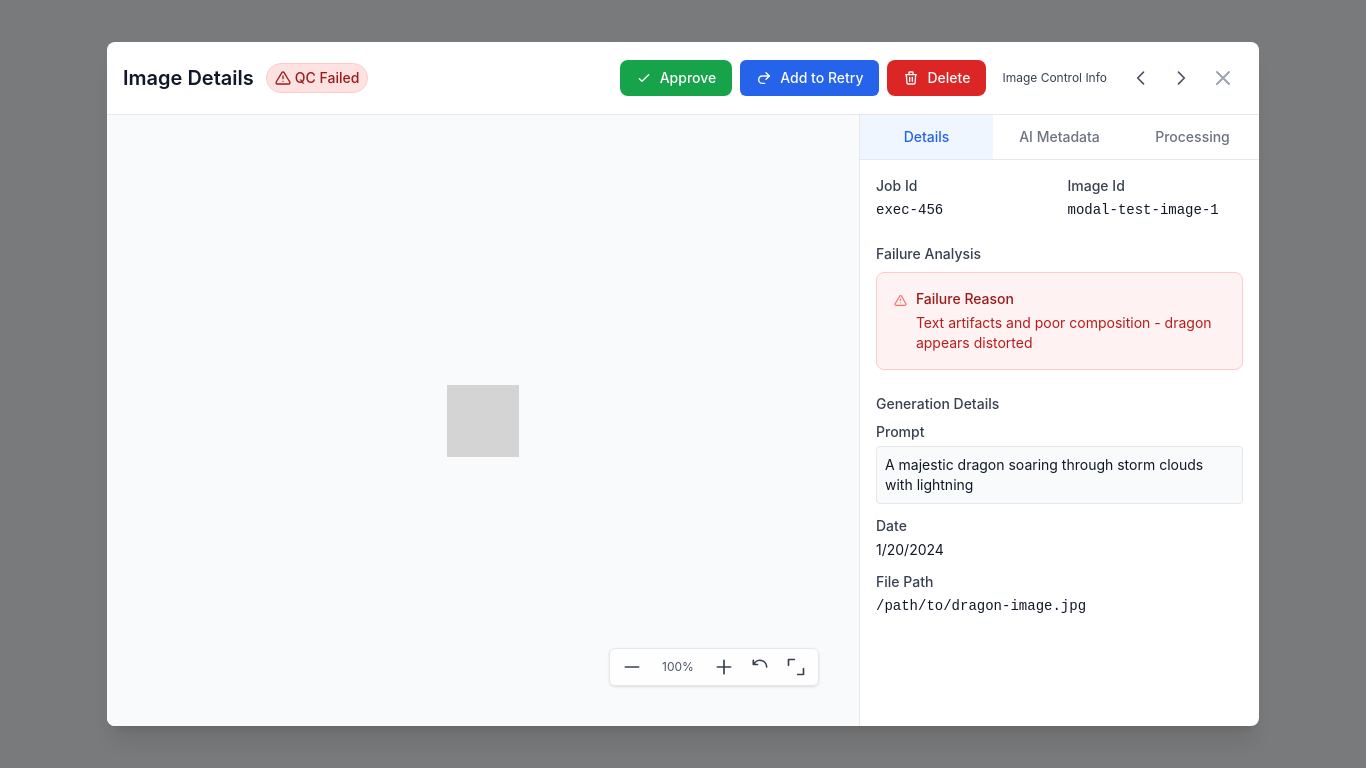
Scenario: FailedImageReviewModal › AI Metadata Section › handles missing metadata gracefully
Click the button "AI Metadata" at (1060, 137), box [993,115,1126,159]
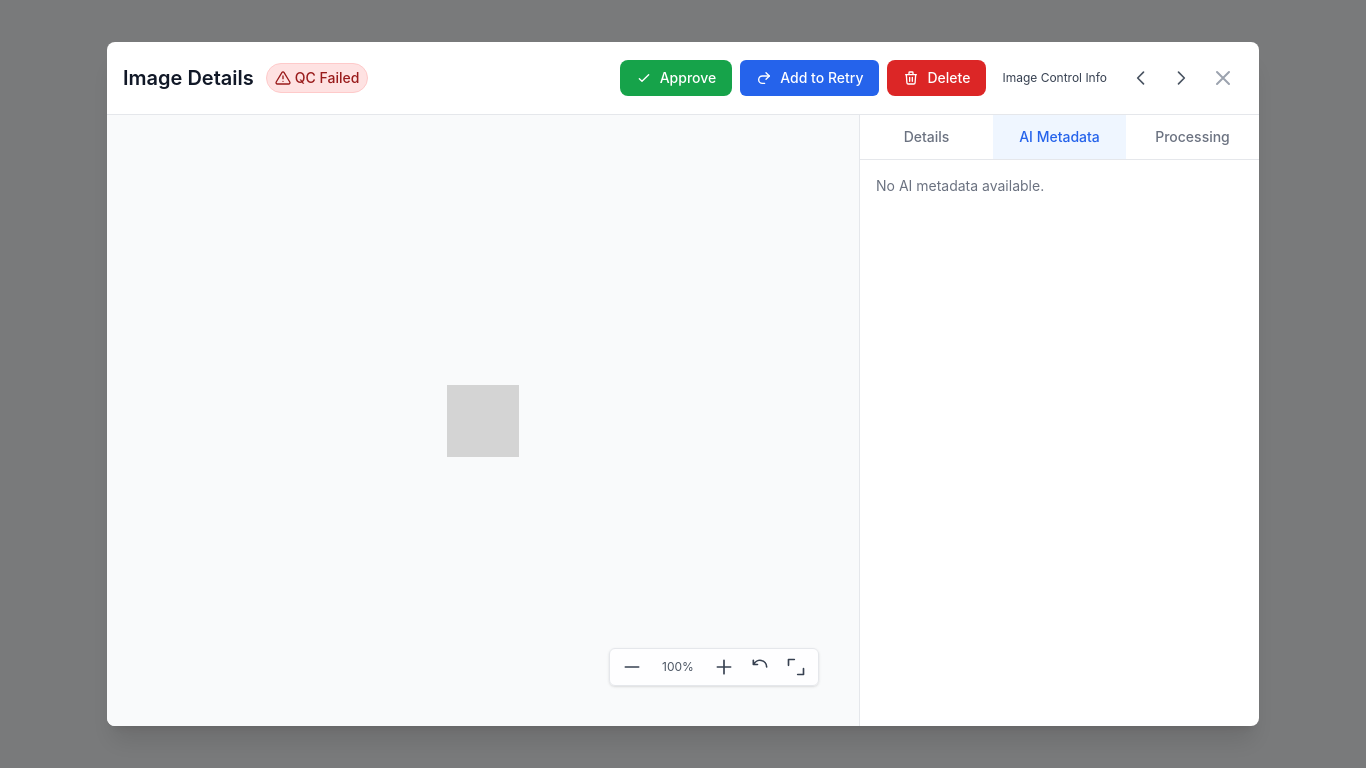
Expected: the text "No AI metadata available." is shown, [876,177,1044,194]
